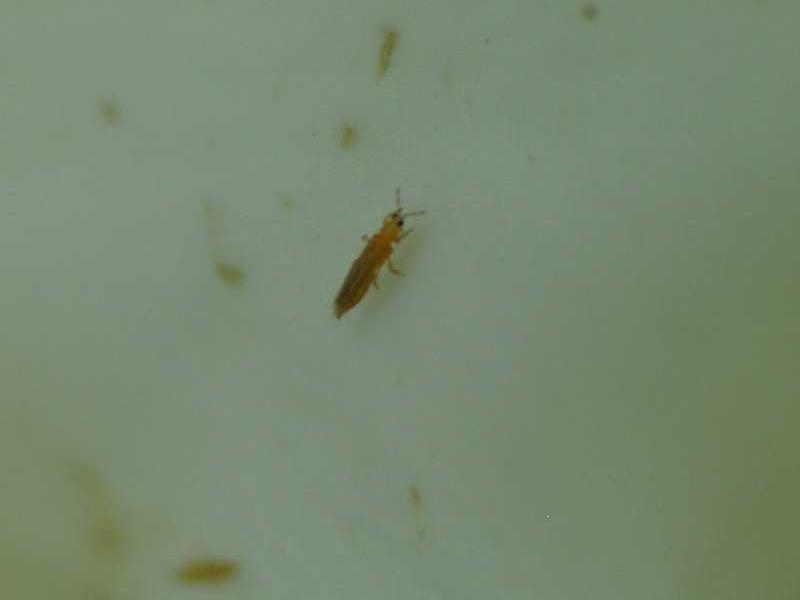Thrips: (274, 176, 452, 344)
